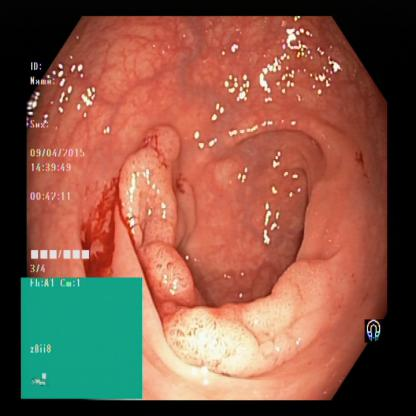Labels: (27, 56, 101, 277), (22, 276, 141, 402), (360, 312, 396, 354)
Polyps: (174, 288, 314, 380), (122, 143, 202, 295)
